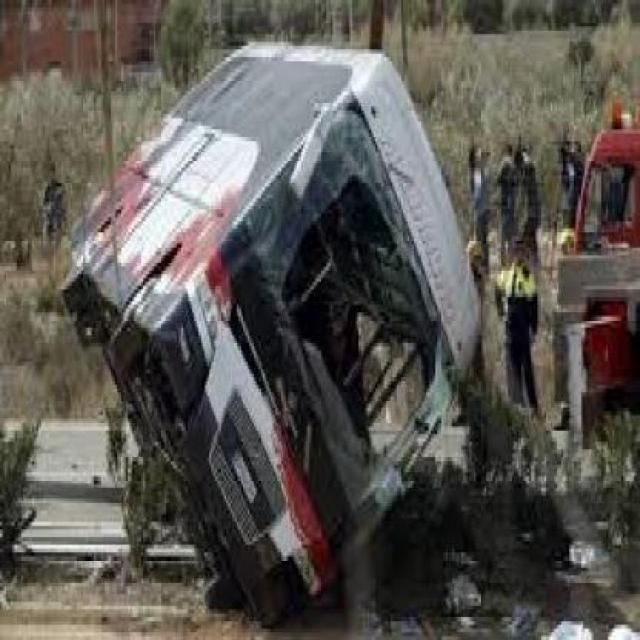accident: (76, 23, 522, 632)
